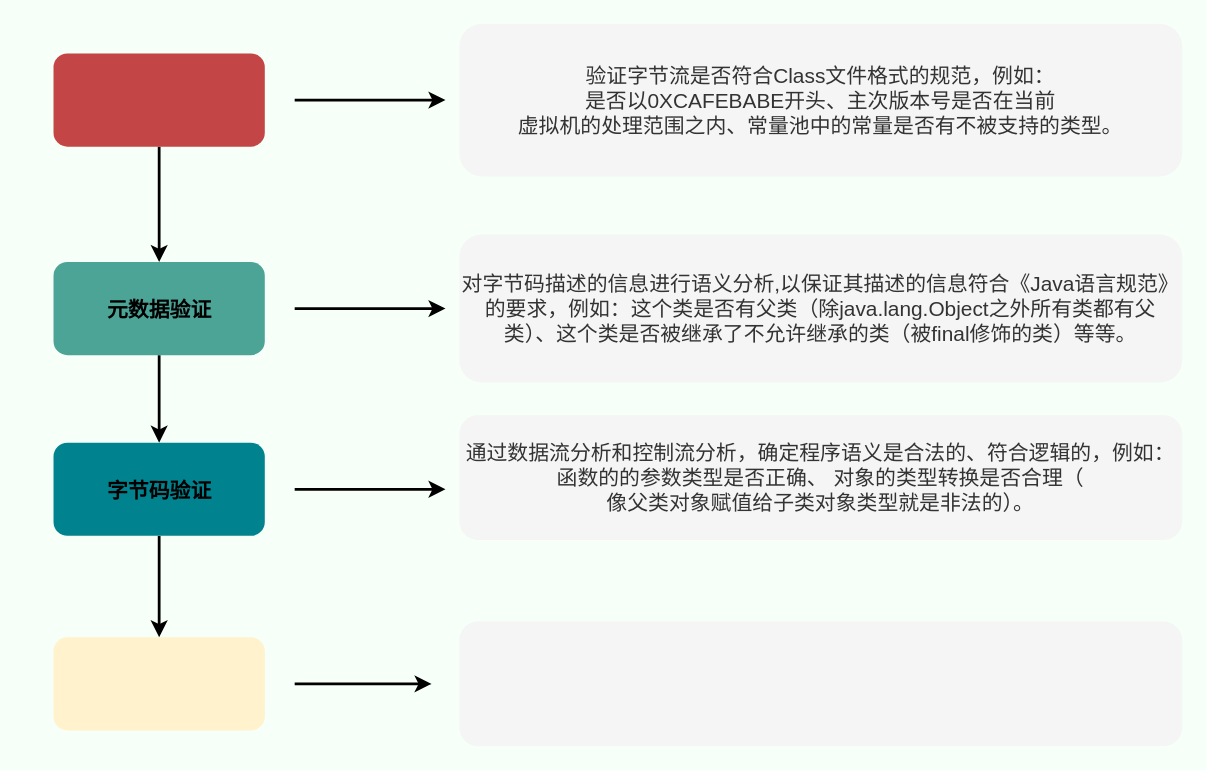
The diagram is 1207 pixels wide and 770 high, and some of its shapes have lost their labels. Each missing label, with the centre of its shape:
文件格式验证: (158,99)
符号引用验证: (158,683)
验证该类的正确性，例如：该类要使用的其他类、方法、字段是否存在、是否拥有正确的访问权限: (820,683)
